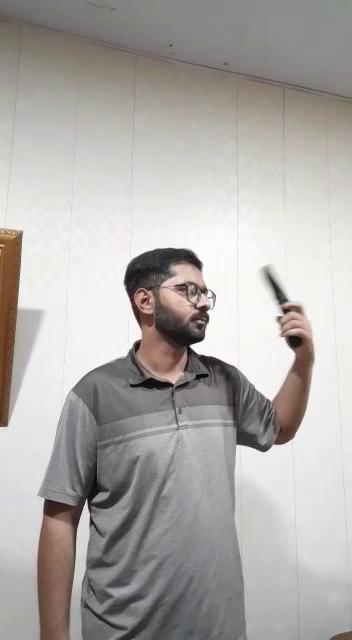criminal: (34, 243, 317, 640)
weapon: (258, 259, 310, 353)
